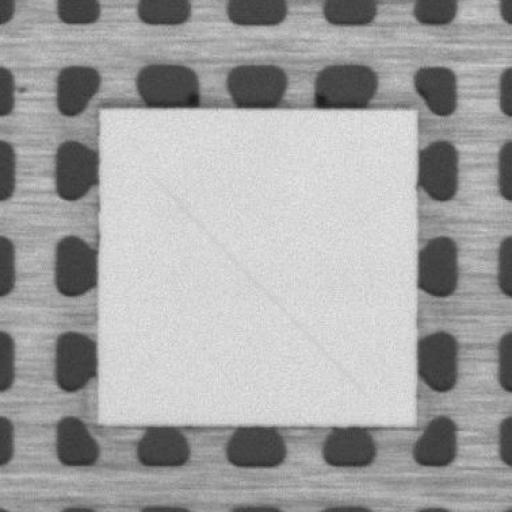DIE_CRACK: (153, 178, 363, 394)
